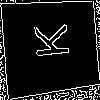K: (25, 22, 69, 60)
